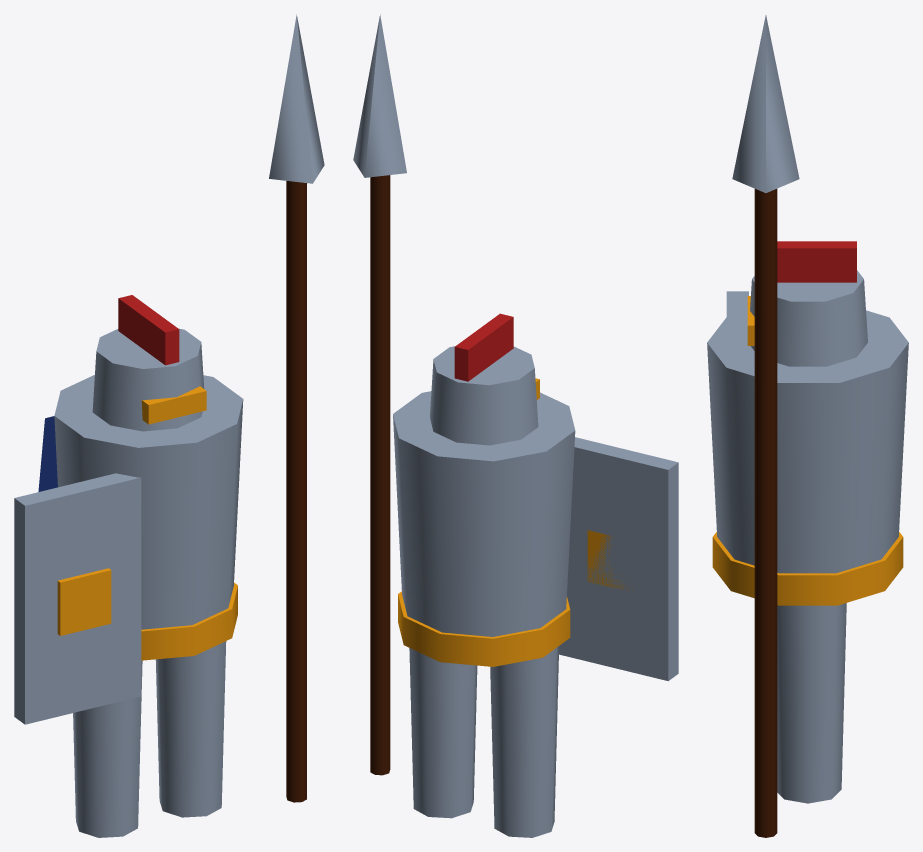
Rendered from npc_sentinel_guard.glb.
The picture shows the model from 3 angles, left to right: view 1: azimuth 30°, elevation 25°; view 2: azimuth 150°, elevation 25°; view 3: azimuth 270°, elevation 25°; orthographic projection. The views are drawn at different scales.
Parts seen in each view (by area): view 1: NPC_SENTINEL_GUARD; view 2: NPC_SENTINEL_GUARD; view 3: NPC_SENTINEL_GUARD.
Part boxes in pixels (left/top/right/bottom): NPC_SENTINEL_GUARD: left=14, top=14, right=324, bottom=837; NPC_SENTINEL_GUARD: left=353, top=14, right=678, bottom=837; NPC_SENTINEL_GUARD: left=707, top=15, right=908, bottom=837.
Bounding box in the file's own units: 1.37 × 3.22 × 0.72.
